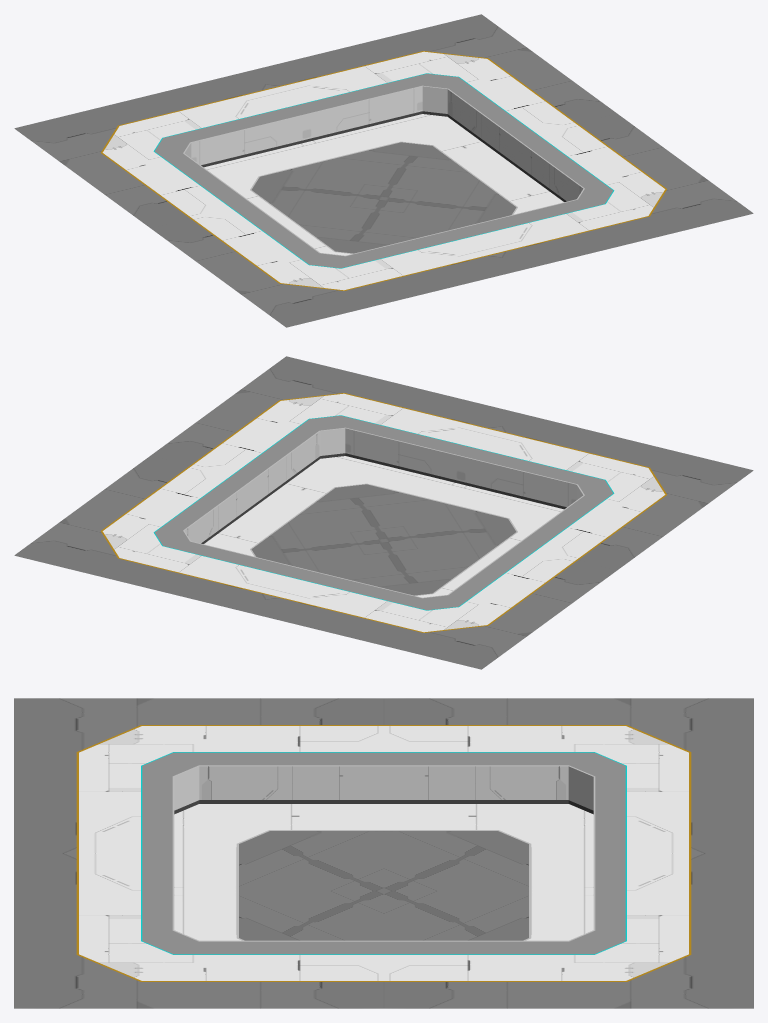
File: SM_Floor_Interior_24x24_Lower_1.fbx
The picture shows the model from 3 angles, top to bottom: view 1: azimuth 30°, elevation 25°; view 2: azimuth 150°, elevation 25°; view 3: azimuth 270°, elevation 25°; orthographic projection. The views are drawn at different scales.
Parts seen in each view (by area): view 1: SM_Floor_Interior_24x24_Lower_1; view 2: SM_Floor_Interior_24x24_Lower_1; view 3: SM_Floor_Interior_24x24_Lower_1.
Boxes of the visible parts, bbox=[...] form: SM_Floor_Interior_24x24_Lower_1: bbox=[14, 14, 753, 327]; SM_Floor_Interior_24x24_Lower_1: bbox=[14, 356, 753, 669]; SM_Floor_Interior_24x24_Lower_1: bbox=[14, 698, 753, 1008].
Bounding box in the file's own units: 2300 × 130 × 2320.
